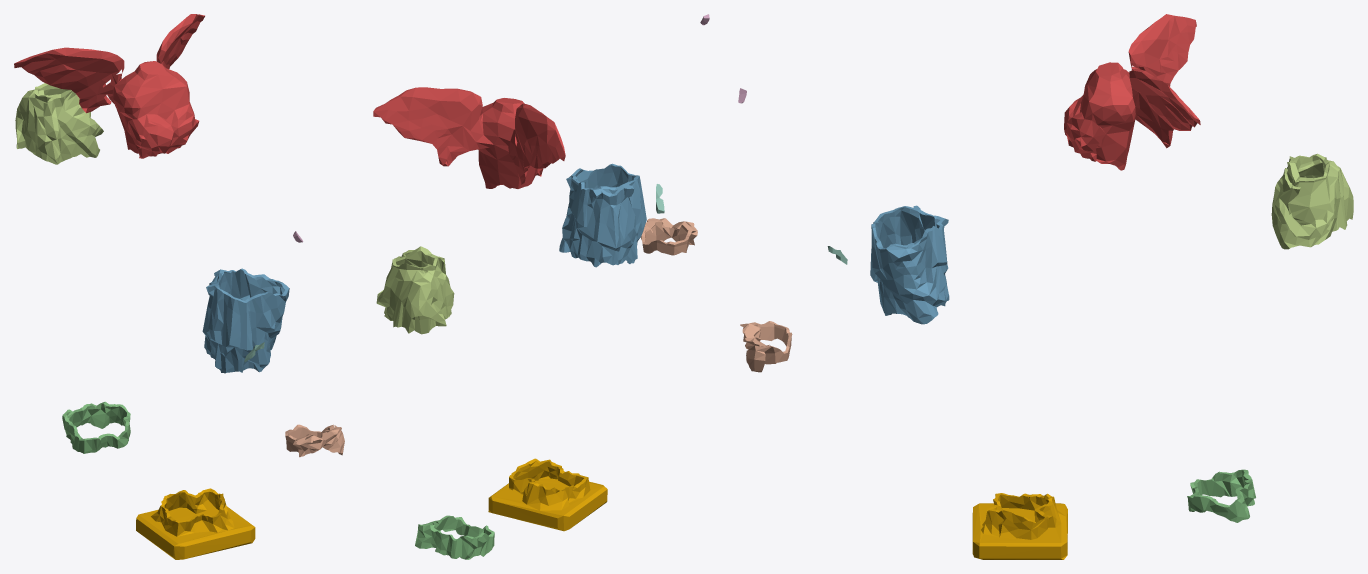
The model's file is fractured_30_8pcs_transformed.glb.
3 views of the same model, side by side, from view 1: azimuth 30°, elevation 25°; view 2: azimuth 150°, elevation 25°; view 3: azimuth 270°, elevation 25° (orthographic). The views are drawn at different scales.
Parts seen in each view (by area): view 1: piece_1.obj, piece_2.obj, piece_0.obj, piece_5.obj, piece_3.obj, piece_7.obj; view 2: piece_1.obj, piece_2.obj, piece_0.obj, piece_5.obj, piece_3.obj, piece_7.obj; view 3: piece_1.obj, piece_2.obj, piece_5.obj, piece_0.obj, piece_3.obj, piece_7.obj.
Part boxes in pixels (box(x1,y1,x2,y2)): piece_1.obj: box(14, 14, 204, 158); piece_2.obj: box(202, 268, 289, 373); piece_0.obj: box(136, 488, 255, 559); piece_5.obj: box(15, 83, 103, 164); piece_3.obj: box(62, 401, 130, 453); piece_7.obj: box(285, 424, 344, 457); piece_1.obj: box(373, 87, 565, 188); piece_2.obj: box(559, 163, 646, 267); piece_0.obj: box(488, 458, 607, 531); piece_5.obj: box(376, 246, 454, 334); piece_3.obj: box(415, 515, 494, 559); piece_7.obj: box(640, 218, 697, 255); piece_1.obj: box(1064, 14, 1200, 170); piece_2.obj: box(870, 205, 949, 324); piece_5.obj: box(1271, 153, 1353, 249); piece_0.obj: box(972, 493, 1067, 559); piece_3.obj: box(1187, 469, 1255, 522); piece_7.obj: box(740, 321, 792, 372).
Bounding box in the file's own units: 0.702 × 1.6 × 1.83.
